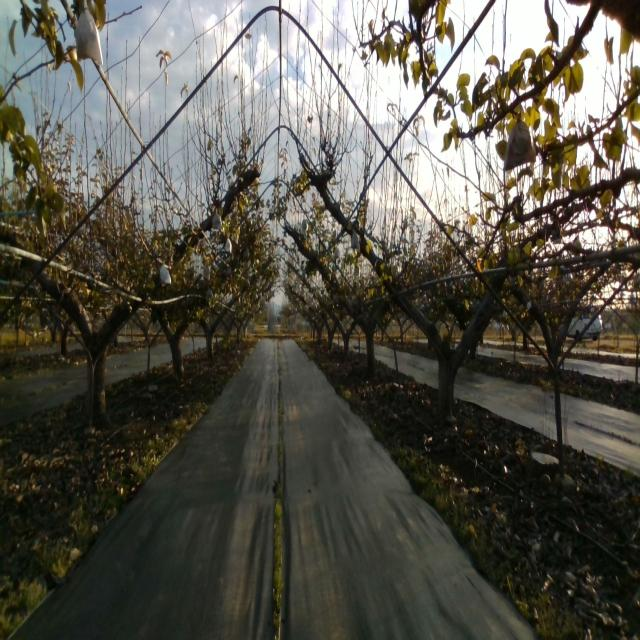pearbags: (502, 110, 536, 172), (75, 9, 103, 67), (159, 260, 172, 287), (350, 228, 360, 256), (212, 208, 222, 229)
